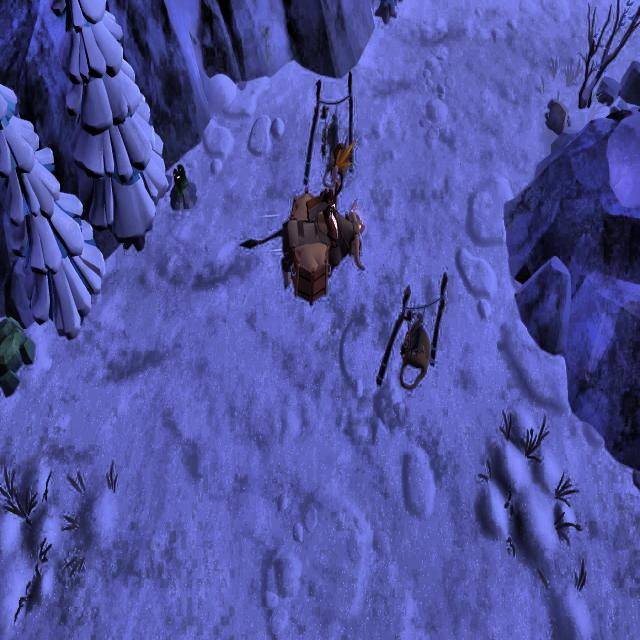ore_t3: (172, 160, 188, 198)
rock_t3: (0, 304, 32, 392)
